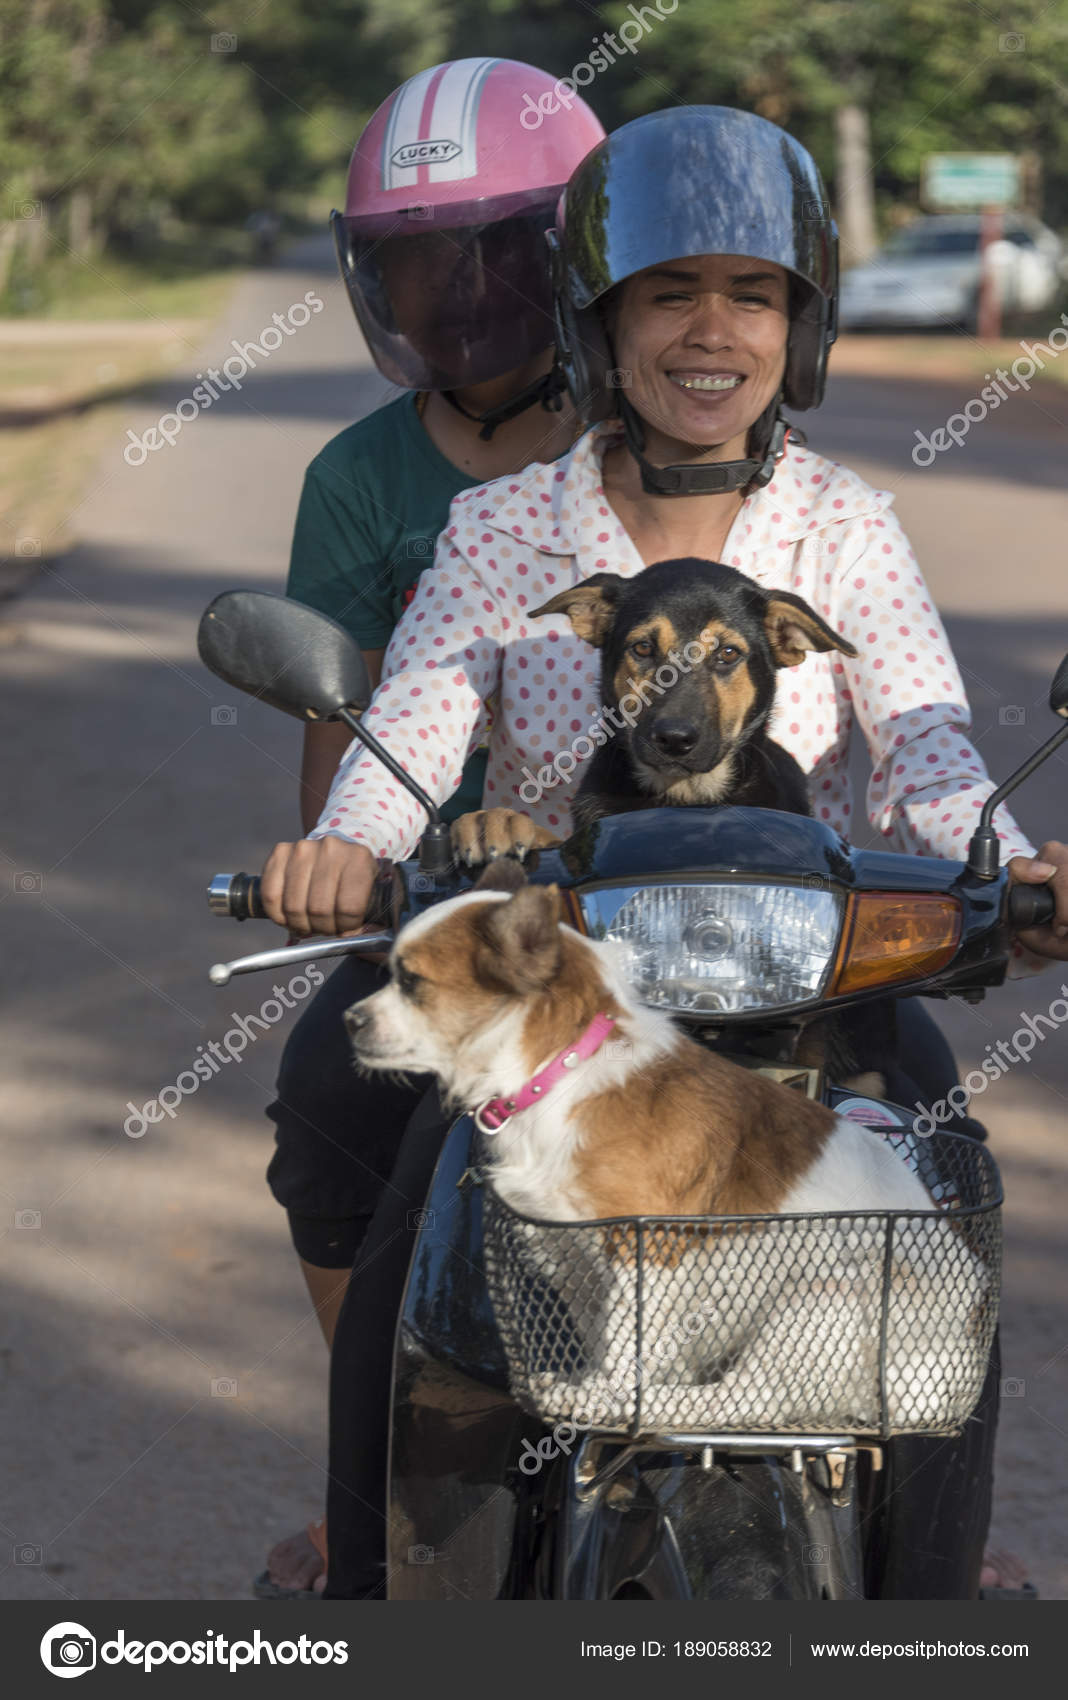helmet: (524, 103, 893, 422), (340, 50, 603, 348)
